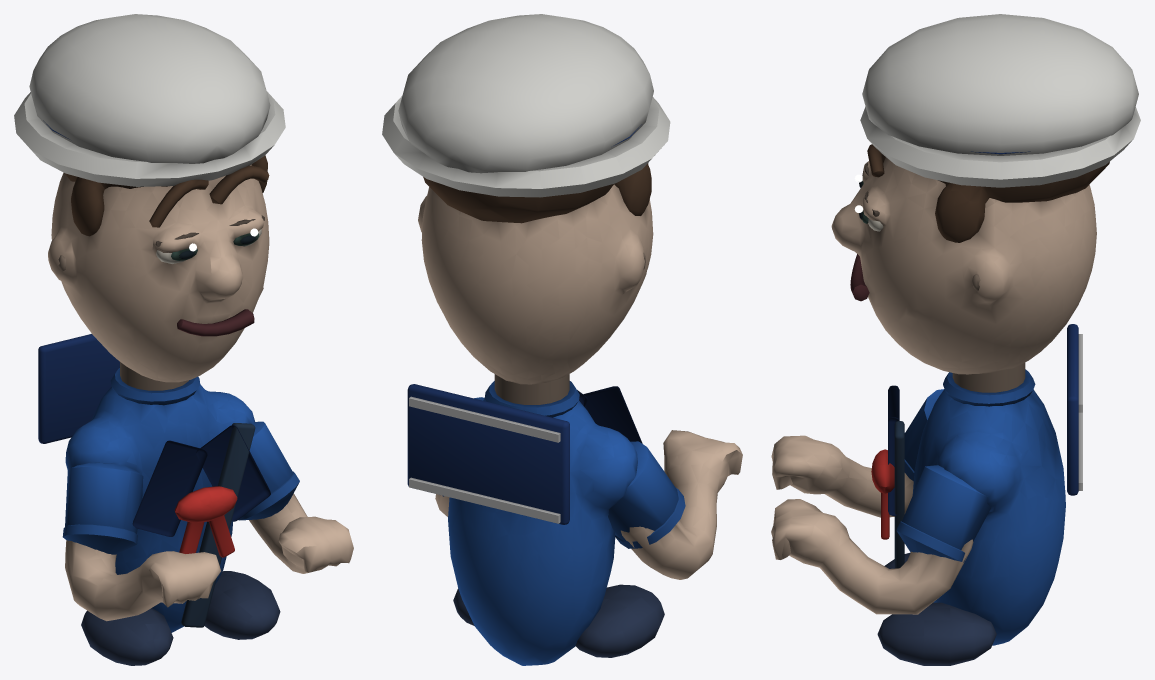
The model's file is cucukis.glb.
3 views of the same model, side by side, from view 1: azimuth 30°, elevation 25°; view 2: azimuth 150°, elevation 25°; view 3: azimuth 270°, elevation 25° (orthographic). The views are drawn at different scales.
Visible parts, largest first — view 1: cucukis-head-root-f7f7f2-r80, cucukis-head-root-soft-f2d3ba, cucukis-root-1d3a7a-r70, cucukis-root-soft-2f6fd0, cucukis-arm-right-soft-f2d3ba, cucukis-root-344465-r85, cucukis-arm-left-soft-f2d3ba, cucukis-arm-right-2f6fd0-r85, cucukis-root-e53b35-r70, cucukis-root-263b54-r70, cucukis-head-root-soft-5c4331, cucukis-head-root-5c4331-r70 (+6 smaller); view 2: cucukis-head-root-f7f7f2-r80, cucukis-head-root-soft-f2d3ba, cucukis-root-soft-2f6fd0, cucukis-root-1d3a7a-r70, cucukis-arm-right-soft-f2d3ba, cucukis-head-root-soft-5c4331, cucukis-root-344465-r85, cucukis-arm-right-2f6fd0-r85, cucukis-root-ffffff-r70, cucukis-root-f2d3ba-r70, cucukis-root-275daf-r85, cucukis-arm-right-2659a6-r85; view 3: cucukis-head-root-f7f7f2-r80, cucukis-head-root-soft-f2d3ba, cucukis-root-soft-2f6fd0, cucukis-arm-left-soft-f2d3ba, cucukis-arm-right-soft-f2d3ba, cucukis-root-344465-r85, cucukis-arm-left-2f6fd0-r85, cucukis-head-root-soft-5c4331, cucukis-root-1d3a7a-r70, cucukis-root-275daf-r85, cucukis-root-263b54-r70, cucukis-root-f2d3ba-r70 (+5 smaller).
Boxes of the visible parts, bbox=[...] form: cucukis-head-root-f7f7f2-r80: bbox=[14, 14, 285, 186]; cucukis-head-root-soft-f2d3ba: bbox=[48, 164, 269, 382]; cucukis-root-1d3a7a-r70: bbox=[38, 334, 270, 536]; cucukis-root-soft-2f6fd0: bbox=[65, 384, 255, 632]; cucukis-arm-right-soft-f2d3ba: bbox=[65, 540, 220, 621]; cucukis-root-344465-r85: bbox=[81, 571, 280, 665]; cucukis-arm-left-soft-f2d3ba: bbox=[249, 493, 353, 573]; cucukis-arm-right-2f6fd0-r85: bbox=[65, 463, 143, 533]; cucukis-root-e53b35-r70: bbox=[174, 486, 237, 557]; cucukis-root-263b54-r70: bbox=[181, 423, 255, 627]; cucukis-head-root-soft-5c4331: bbox=[64, 155, 267, 236]; cucukis-head-root-5c4331-r70: bbox=[149, 165, 269, 227]; cucukis-head-root-f7f7f2-r80: bbox=[382, 14, 670, 197]; cucukis-head-root-soft-f2d3ba: bbox=[418, 184, 653, 384]; cucukis-root-soft-2f6fd0: bbox=[448, 397, 637, 665]; cucukis-root-1d3a7a-r70: bbox=[407, 384, 642, 524]; cucukis-arm-right-soft-f2d3ba: bbox=[621, 430, 742, 579]; cucukis-head-root-soft-5c4331: bbox=[423, 163, 651, 223]; cucukis-root-344465-r85: bbox=[453, 584, 664, 657]; cucukis-arm-right-2f6fd0-r85: bbox=[608, 441, 678, 540]; cucukis-root-ffffff-r70: bbox=[409, 396, 560, 523]; cucukis-root-f2d3ba-r70: bbox=[494, 374, 569, 404]; cucukis-root-275daf-r85: bbox=[484, 381, 579, 417]; cucukis-arm-right-2659a6-r85: bbox=[615, 488, 685, 548]; cucukis-head-root-f7f7f2-r80: bbox=[860, 14, 1140, 187]; cucukis-head-root-soft-f2d3ba: bbox=[831, 157, 1096, 374]; cucukis-root-soft-2f6fd0: bbox=[912, 389, 1065, 645]; cucukis-arm-left-soft-f2d3ba: bbox=[771, 499, 973, 614]; cucukis-arm-right-soft-f2d3ba: bbox=[771, 435, 913, 517]; cucukis-root-344465-r85: bbox=[877, 552, 996, 665]; cucukis-arm-left-2f6fd0-r85: bbox=[902, 465, 990, 549]; cucukis-head-root-soft-5c4331: bbox=[935, 162, 1109, 242]; cucukis-root-1d3a7a-r70: bbox=[888, 324, 1078, 515]; cucukis-root-275daf-r85: bbox=[943, 369, 1035, 406]; cucukis-root-263b54-r70: bbox=[894, 421, 904, 568]; cucukis-root-f2d3ba-r70: bbox=[952, 362, 1025, 392].
Bounding box in the file's own units: 0.9899 × 2.33 × 1.28.
